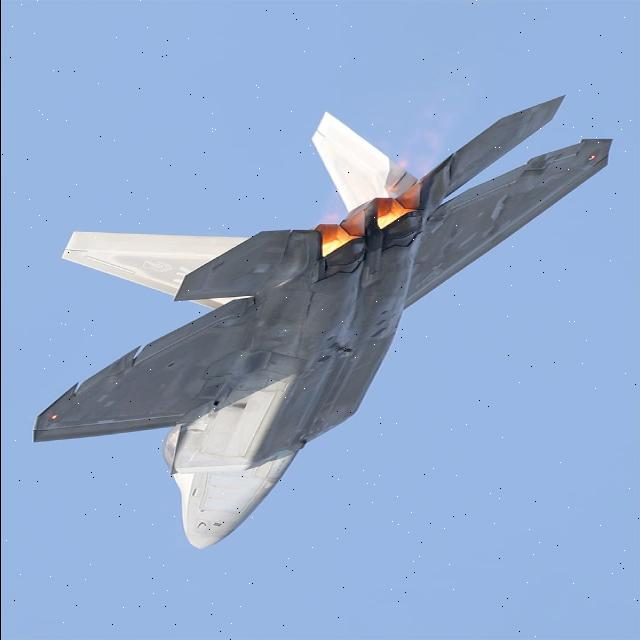F22: (13, 46, 638, 572)
